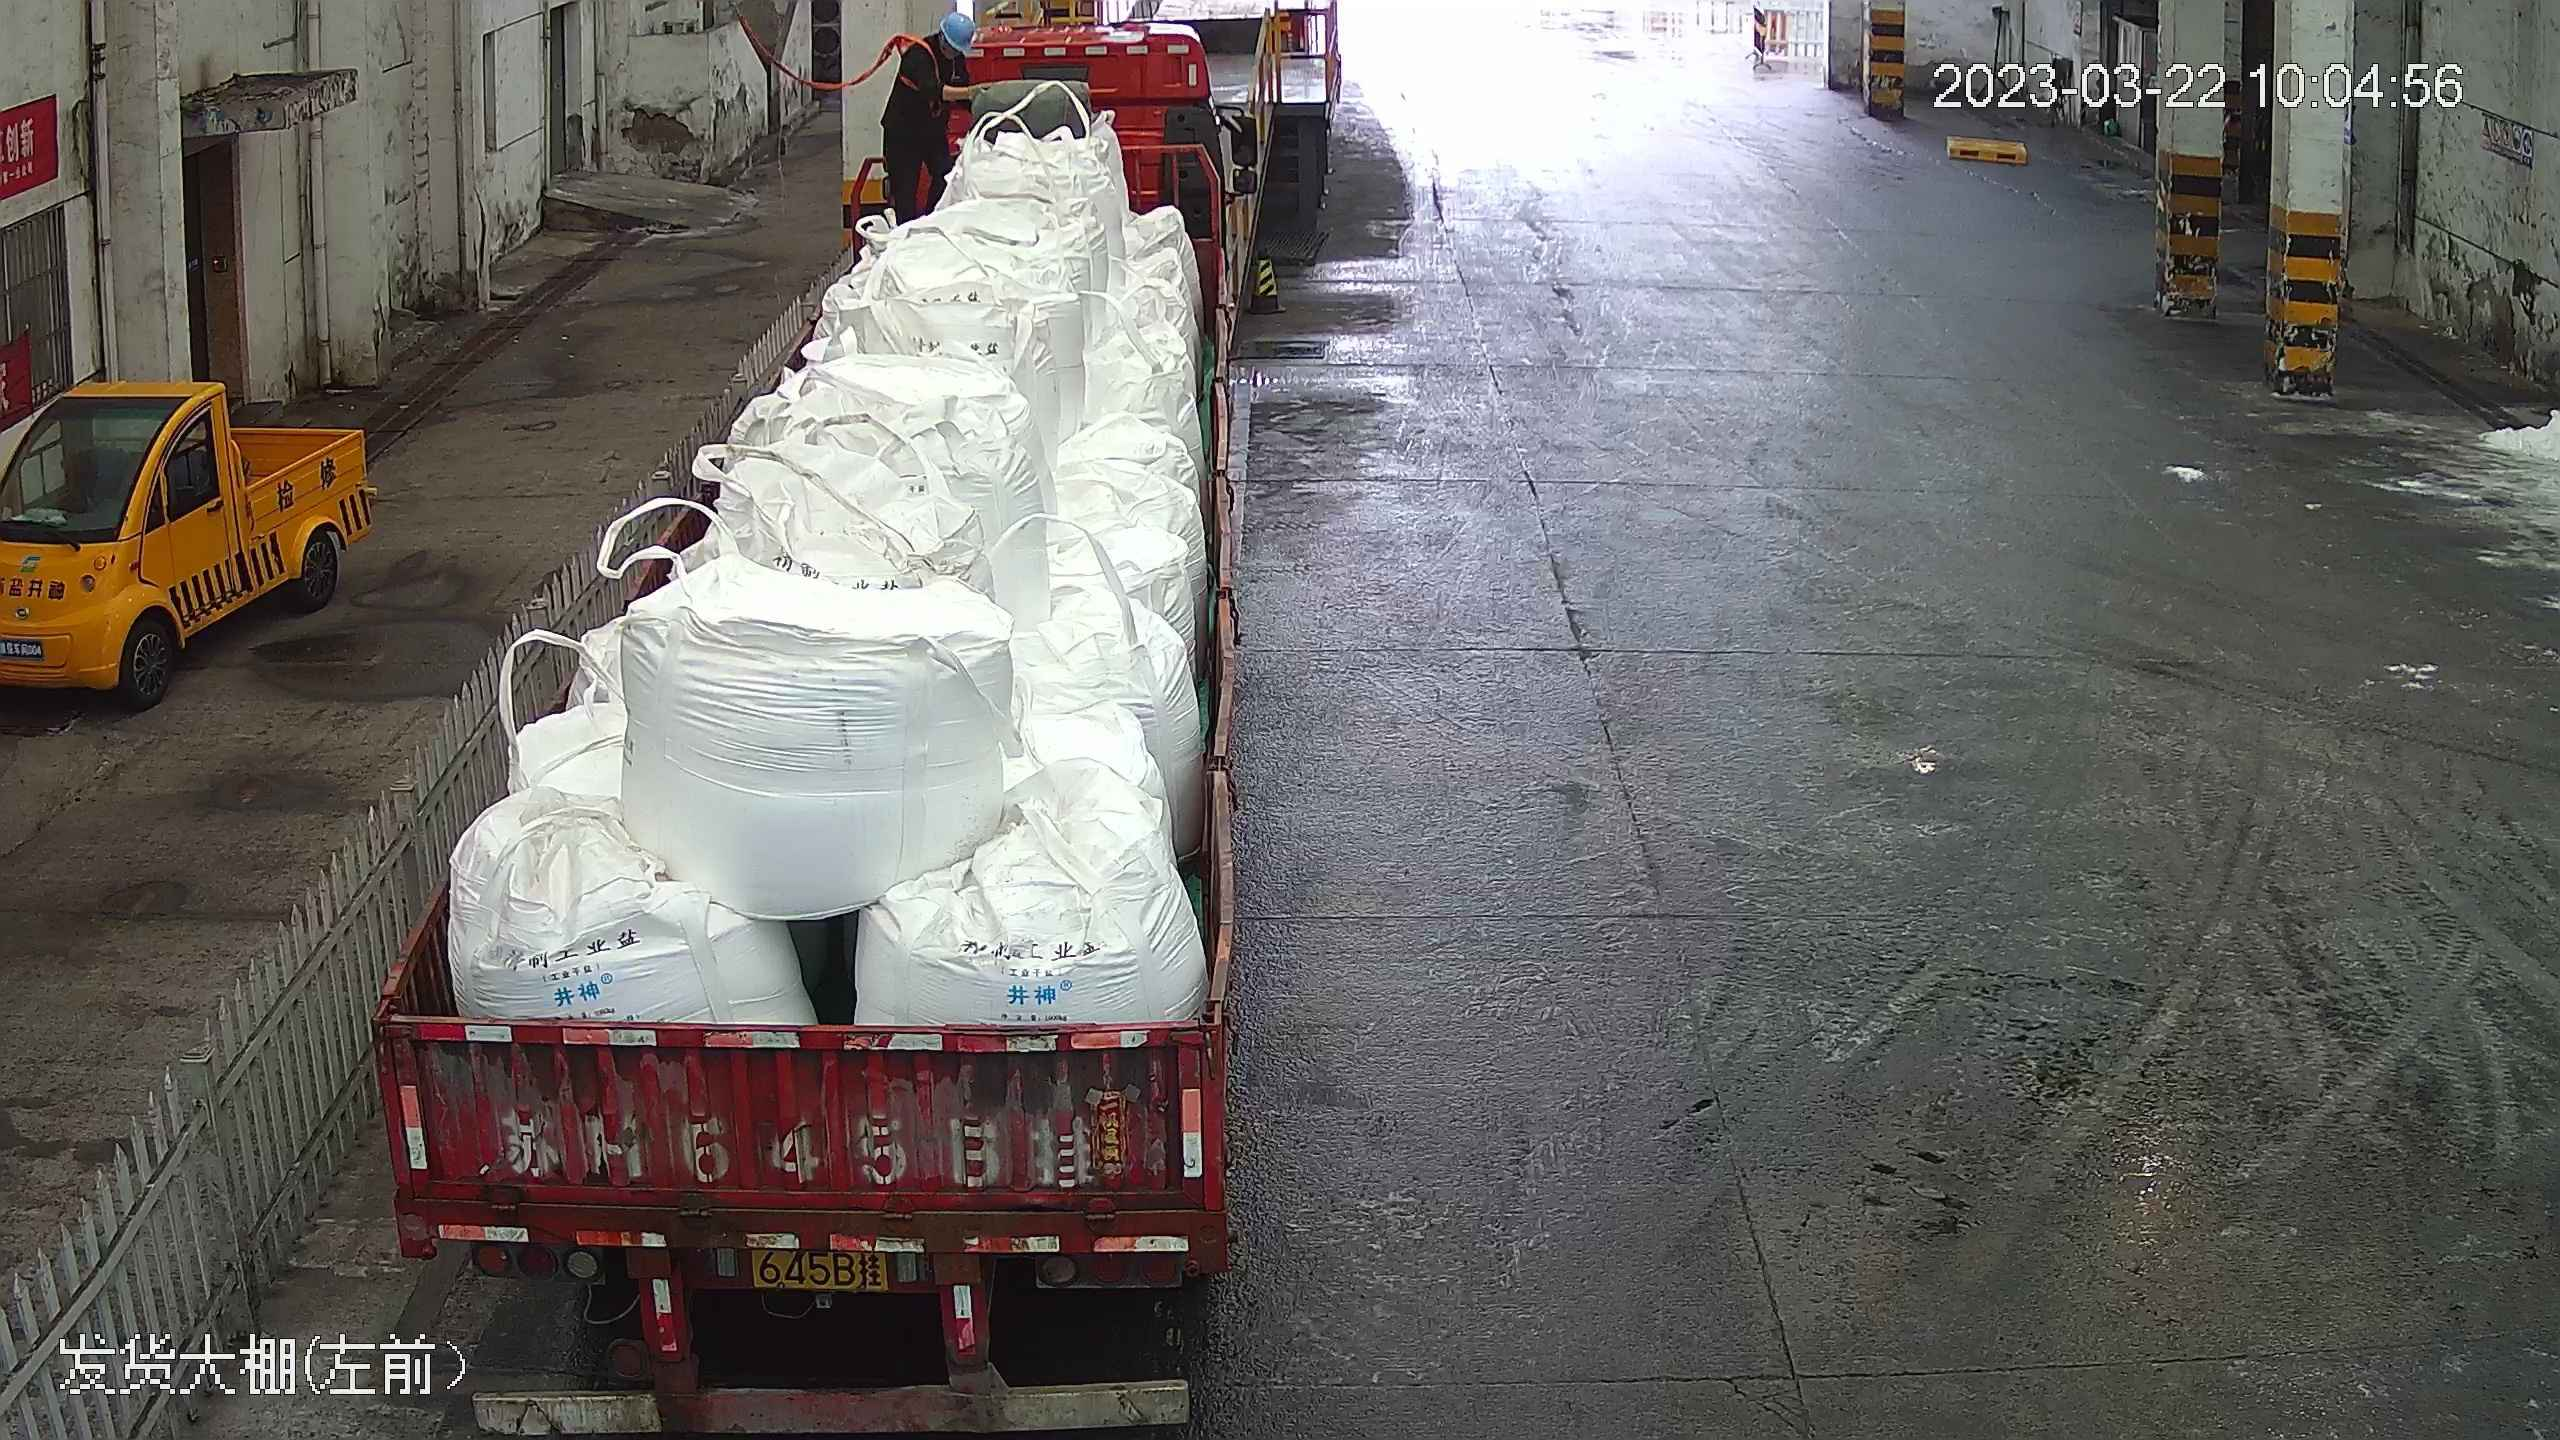belt: (886, 32, 949, 95)
head: (900, 8, 967, 71)
helmet: (940, 7, 978, 55)
people: (877, 16, 980, 230)
truck: (333, 2, 1294, 1419)
